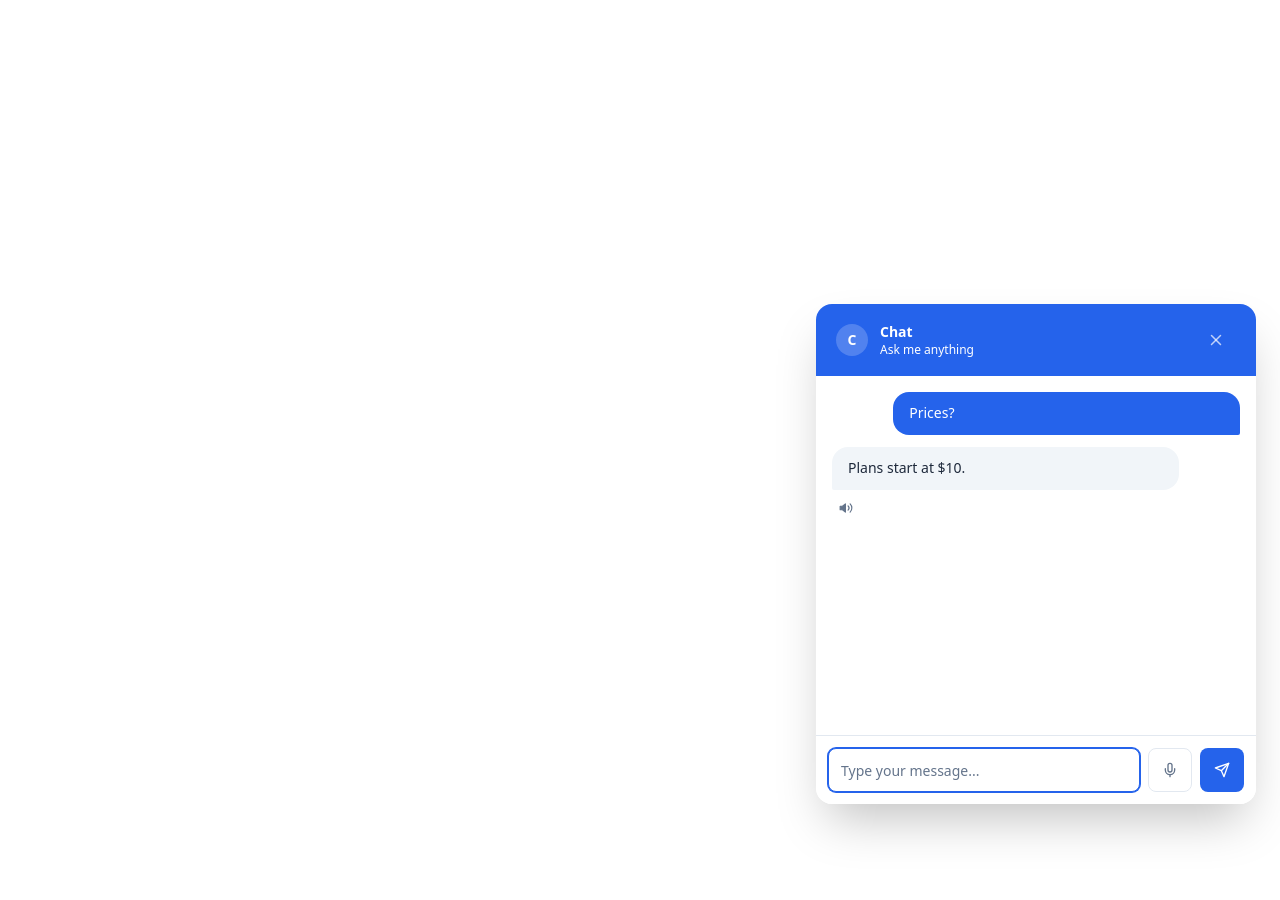
ChatWindow read-aloud › playback › stops on request
Click the button named "Read aloud" at (846, 508), box left=832, top=494, right=860, bottom=522
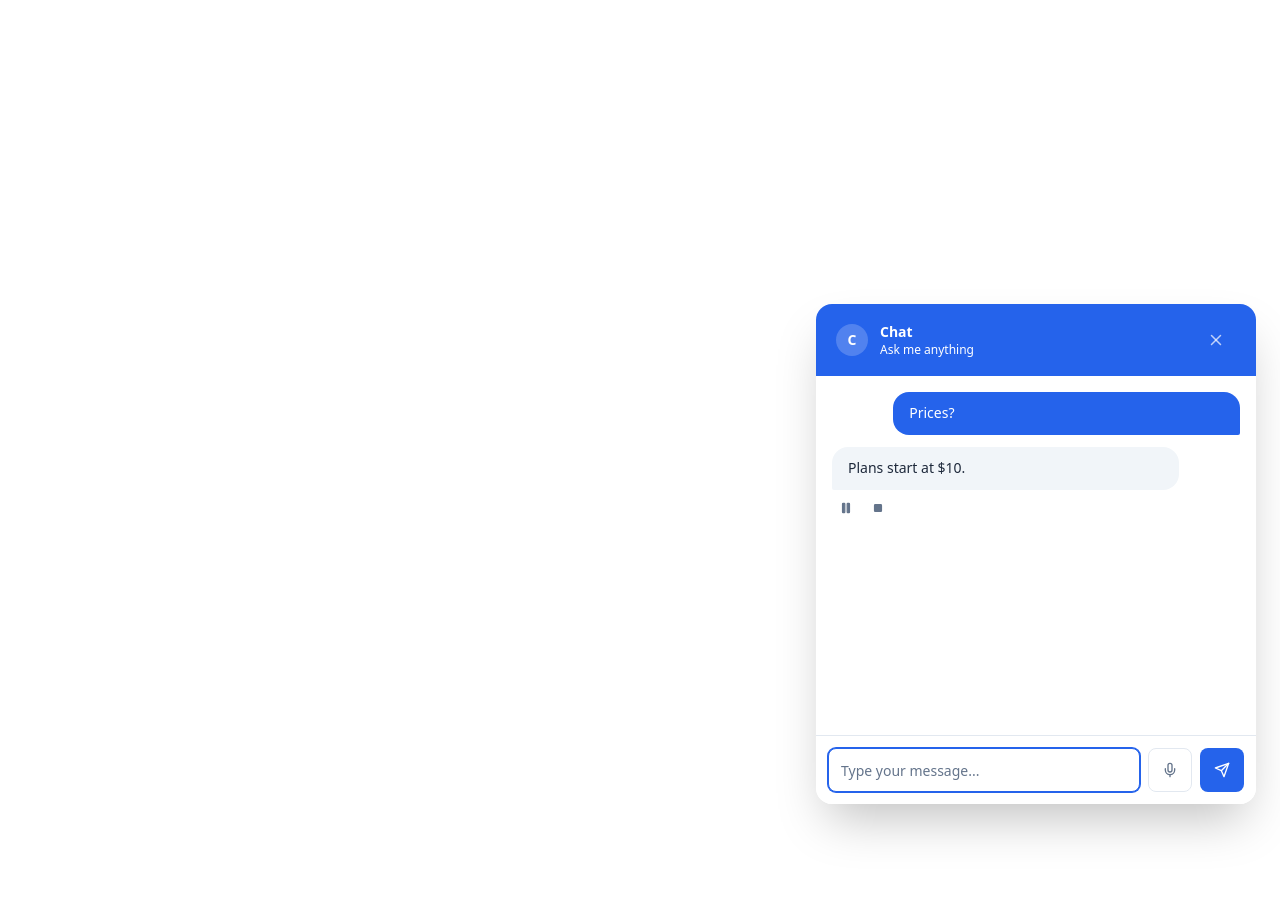
Click the button named "Stop reading" at (878, 508), box left=864, top=494, right=892, bottom=522
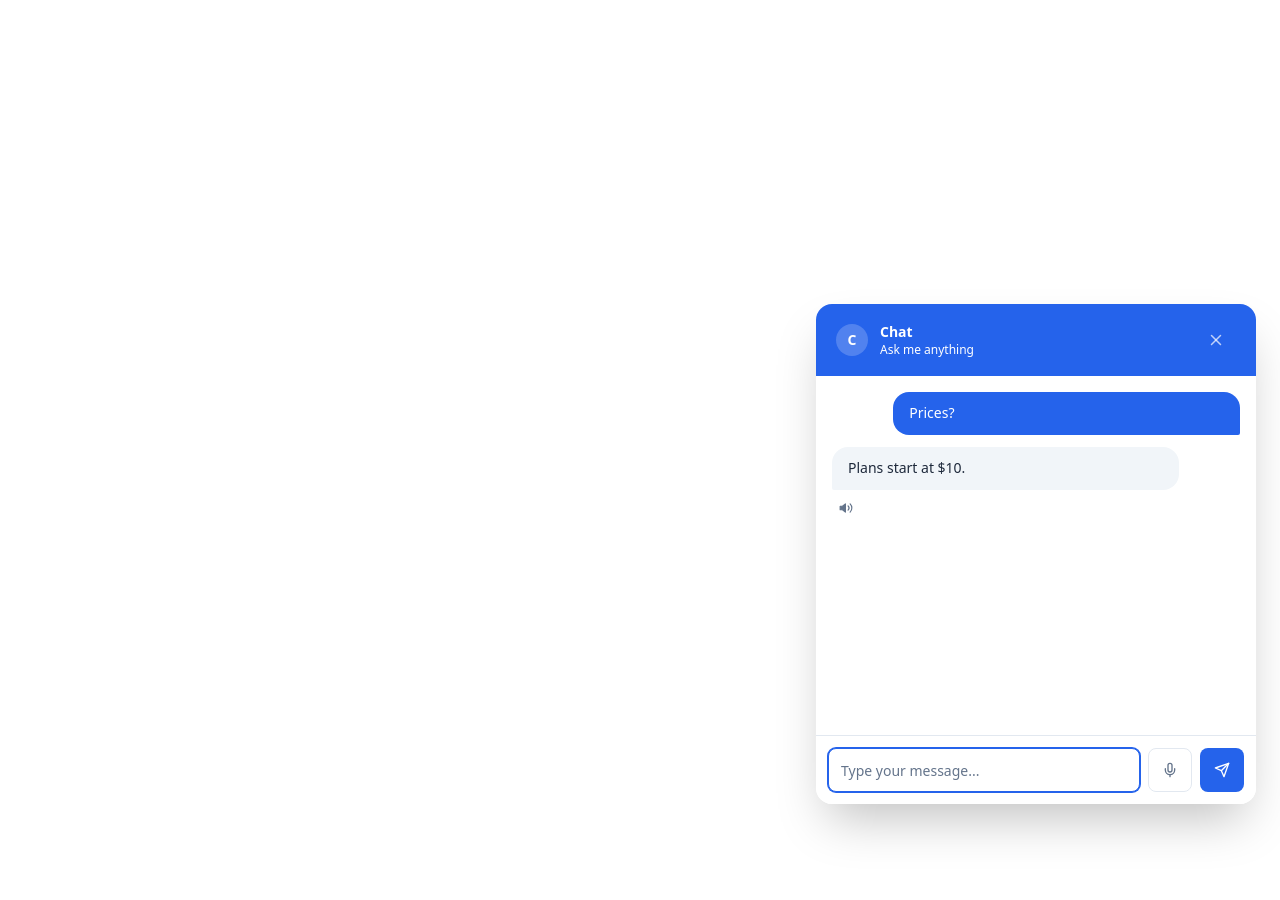
Result: the number of buttons named "Read aloud" is 1 at left=832, top=494, right=860, bottom=522
